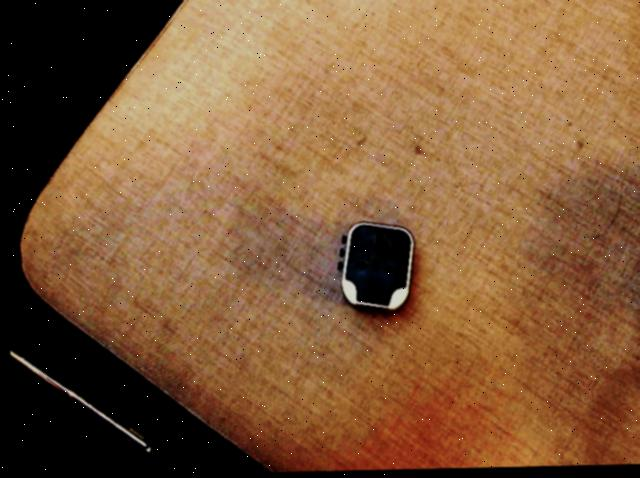adapter: (335, 221, 413, 314)
